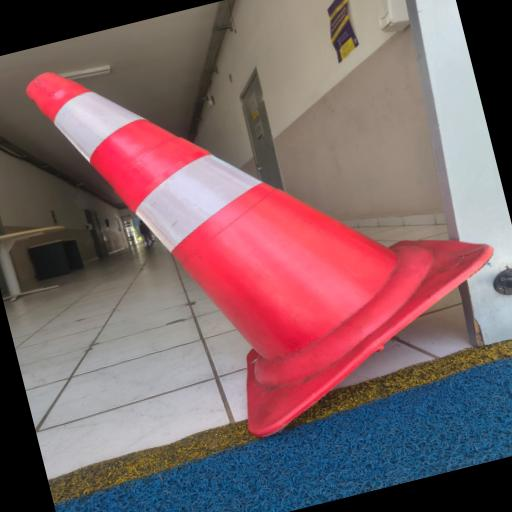cone: (19, 0, 474, 451)
